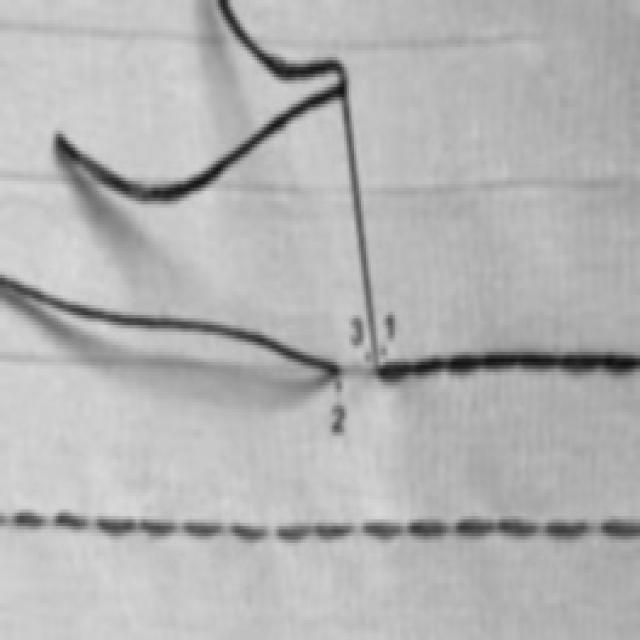stitch: (600, 345, 640, 377), (559, 345, 603, 373), (478, 348, 521, 376), (542, 514, 592, 538), (438, 351, 483, 375), (494, 515, 536, 540), (378, 357, 412, 386), (598, 516, 640, 539), (361, 519, 402, 542), (519, 351, 560, 373), (407, 519, 449, 540), (456, 516, 495, 538), (411, 354, 447, 377), (0, 510, 45, 526), (52, 510, 88, 530), (314, 524, 352, 539), (96, 519, 136, 533), (182, 523, 224, 536), (276, 525, 310, 540), (229, 525, 264, 539), (139, 523, 175, 536)
